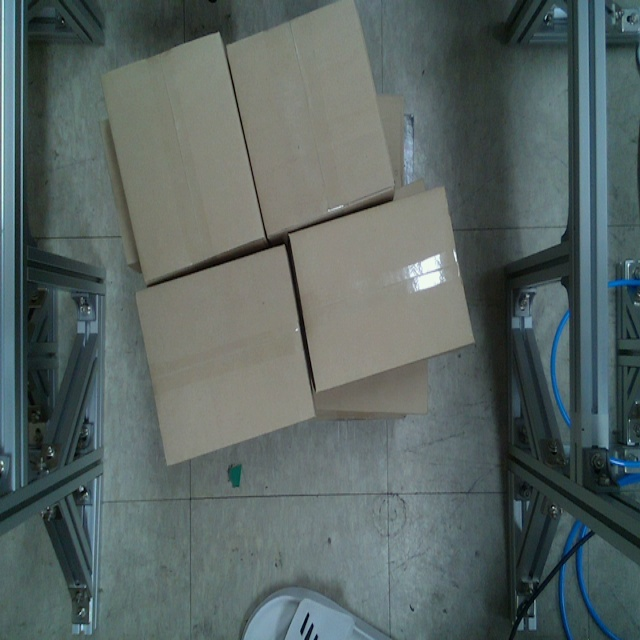box: (97, 29, 269, 288), (129, 241, 317, 471), (224, 1, 396, 239), (287, 184, 477, 399), (266, 592, 360, 640)
